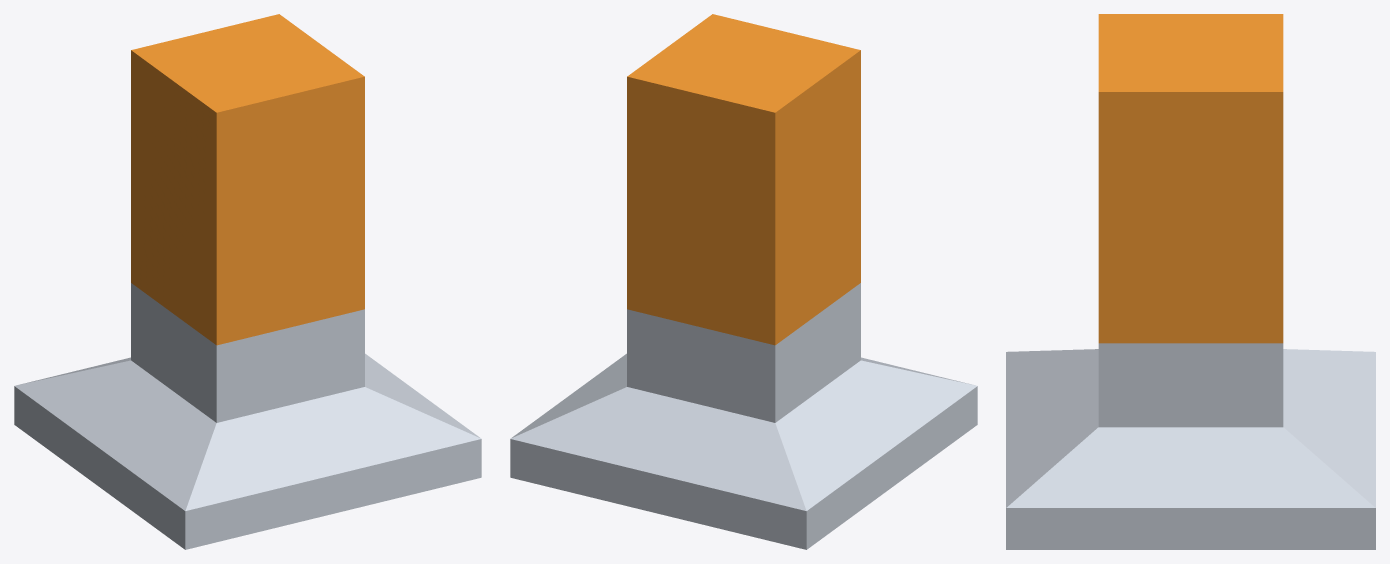
The model's file is pipe_supportLow.glb.
3 renders of one model, left to right at view 1: azimuth 30°, elevation 25°; view 2: azimuth 150°, elevation 25°; view 3: azimuth 270°, elevation 25°, orthographic. The views are drawn at different scales.
Visible parts, largest first — view 1: pipe_supportLow; view 2: pipe_supportLow; view 3: pipe_supportLow.
Part boxes in pixels (x1=…): pipe_supportLow: x1=14, y1=14, x2=481, y2=549; pipe_supportLow: x1=510, y1=14, x2=977, y2=549; pipe_supportLow: x1=1006, y1=14, x2=1375, y2=549.
Size of the model in its own units: 0.4 by 0.5 by 0.4.
